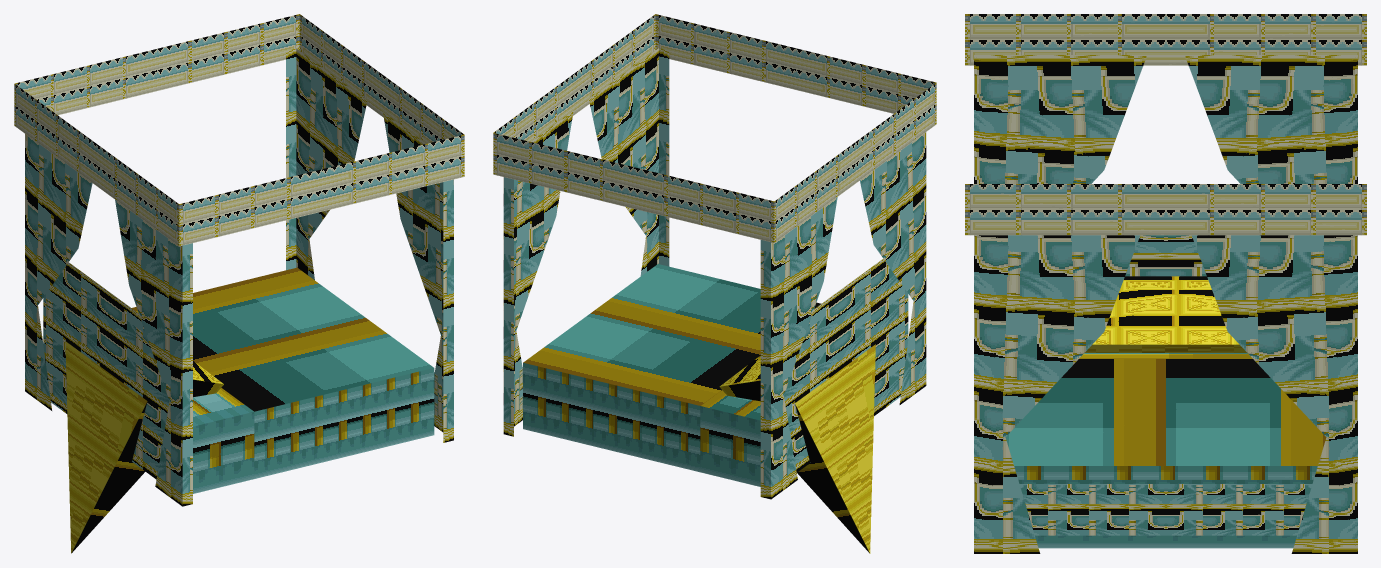
3 views of the same model, side by side, from view 1: azimuth 30°, elevation 25°; view 2: azimuth 150°, elevation 25°; view 3: azimuth 270°, elevation 25° (orthographic). The views are drawn at different scales.
Visible parts, largest first — view 1: 3922kg3_dl04; view 2: 3922kg3_dl04; view 3: 3922kg3_dl04.
Boxes of the visible parts, x1=… form: 3922kg3_dl04: x1=14, y1=14, x2=464, y2=553; 3922kg3_dl04: x1=493, y1=14, x2=936, y2=553; 3922kg3_dl04: x1=965, y1=14, x2=1366, y2=553.
Bounding box in the file's own units: 2.09 × 2.67 × 1.95.
4 materials, 4 textured.
